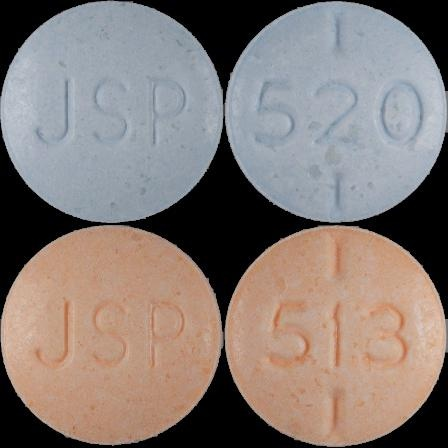68788-9157: (0, 0, 224, 224)
